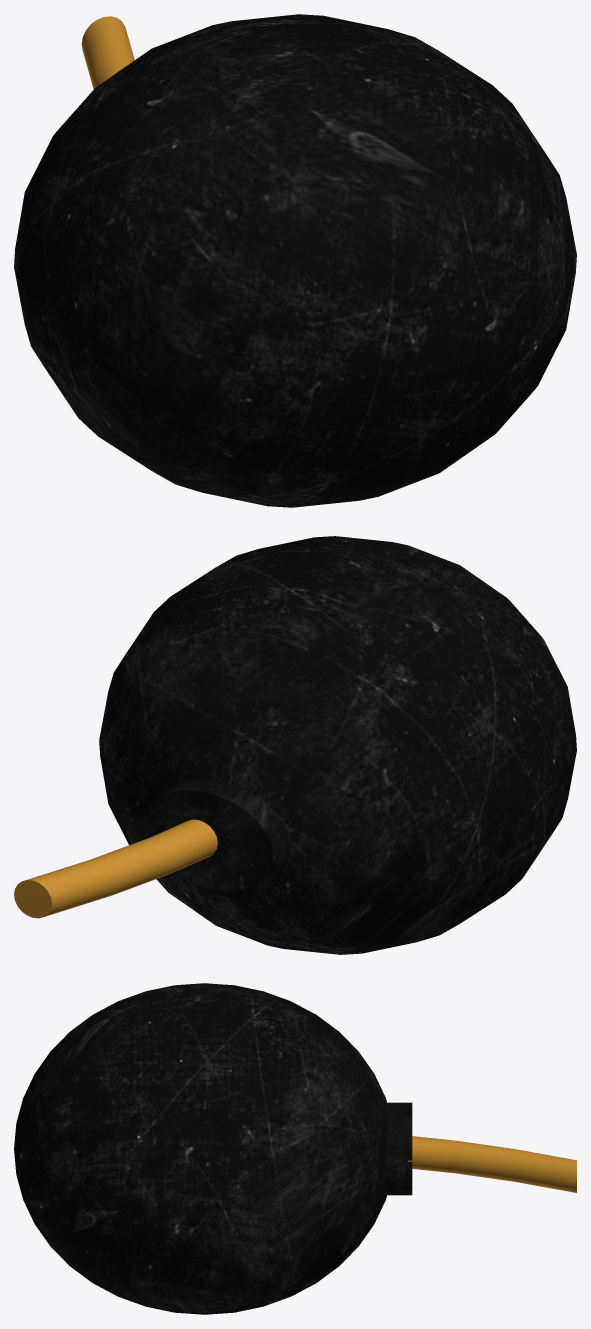
File: bomba_humo.obj
3 renders of one model, top to bottom at view 1: azimuth 30°, elevation 25°; view 2: azimuth 150°, elevation 25°; view 3: azimuth 270°, elevation 25°, orthographic. The views are drawn at different scales.
Visible parts, largest first — view 1: bomba_humo:pSphere2; view 2: bomba_humo:pSphere2; view 3: bomba_humo:pSphere2.
Boxes of the visible parts, bbox=[...] form: bomba_humo:pSphere2: bbox=[14, 14, 576, 507]; bomba_humo:pSphere2: bbox=[14, 536, 576, 954]; bomba_humo:pSphere2: bbox=[14, 983, 576, 1314].
Bounding box in the file's own units: 0.5571 × 0.4721 × 0.8228.
1 material, 1 textured.
